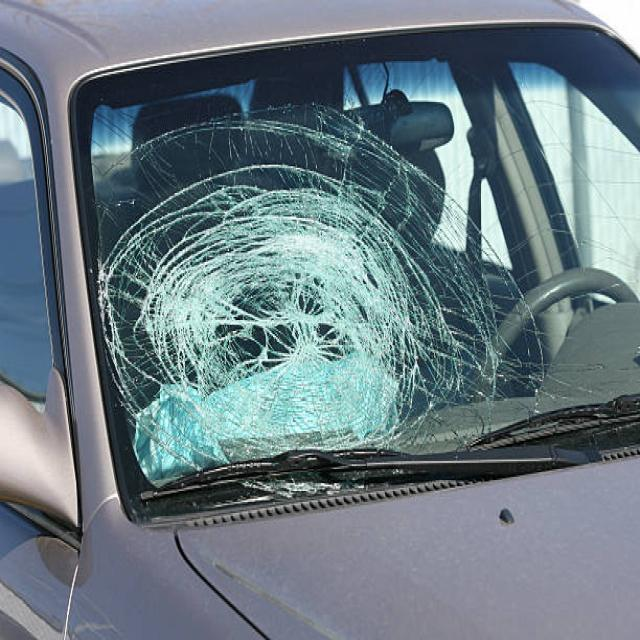crack: (96, 70, 616, 499)
